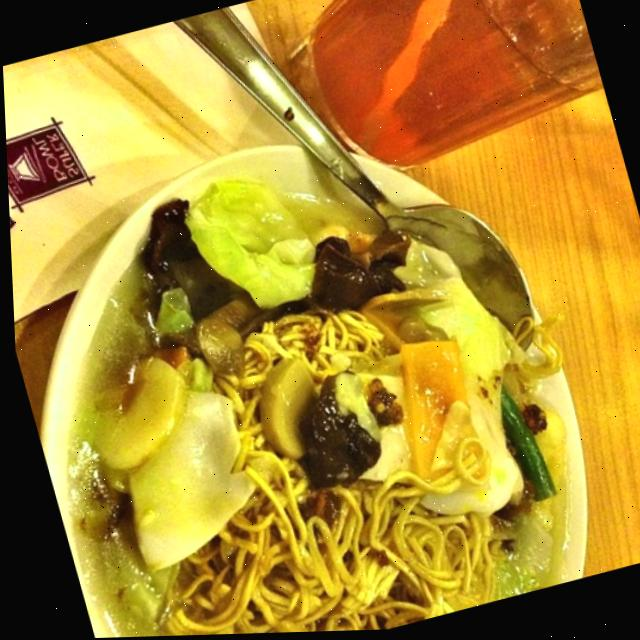面条主食: (4, 112, 607, 640)
